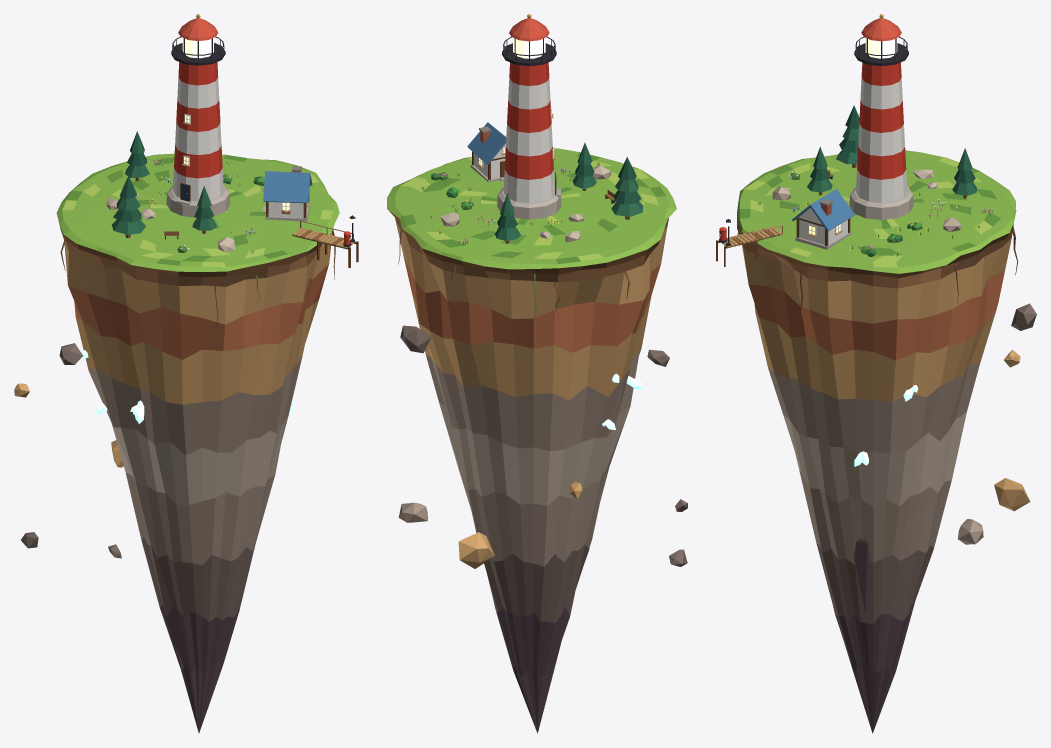
Rendered from island_lighthouse.glb.
The picture shows the model from 3 angles, left to right: view 1: azimuth 30°, elevation 25°; view 2: azimuth 150°, elevation 25°; view 3: azimuth 270°, elevation 25°; orthographic projection.
Parts seen in each view (by area): view 1: Island-col, Dressing, Debris; view 2: Island-col, Dressing, Debris; view 3: Island-col, Dressing, Debris.
Part boxes in pixels (bbox=[...]): Island-col: bbox=[56, 153, 339, 732]; Dressing: bbox=[106, 14, 358, 267]; Debris: bbox=[14, 343, 123, 558]; Island-col: bbox=[387, 148, 676, 733]; Dressing: bbox=[421, 14, 643, 245]; Debris: bbox=[398, 325, 687, 568]; Island-col: bbox=[737, 150, 1016, 733]; Dressing: bbox=[716, 14, 992, 266]; Debris: bbox=[957, 303, 1036, 544].
Size of what is drawn, in the model's own units: 40.85 by 95.92 by 38.65.
